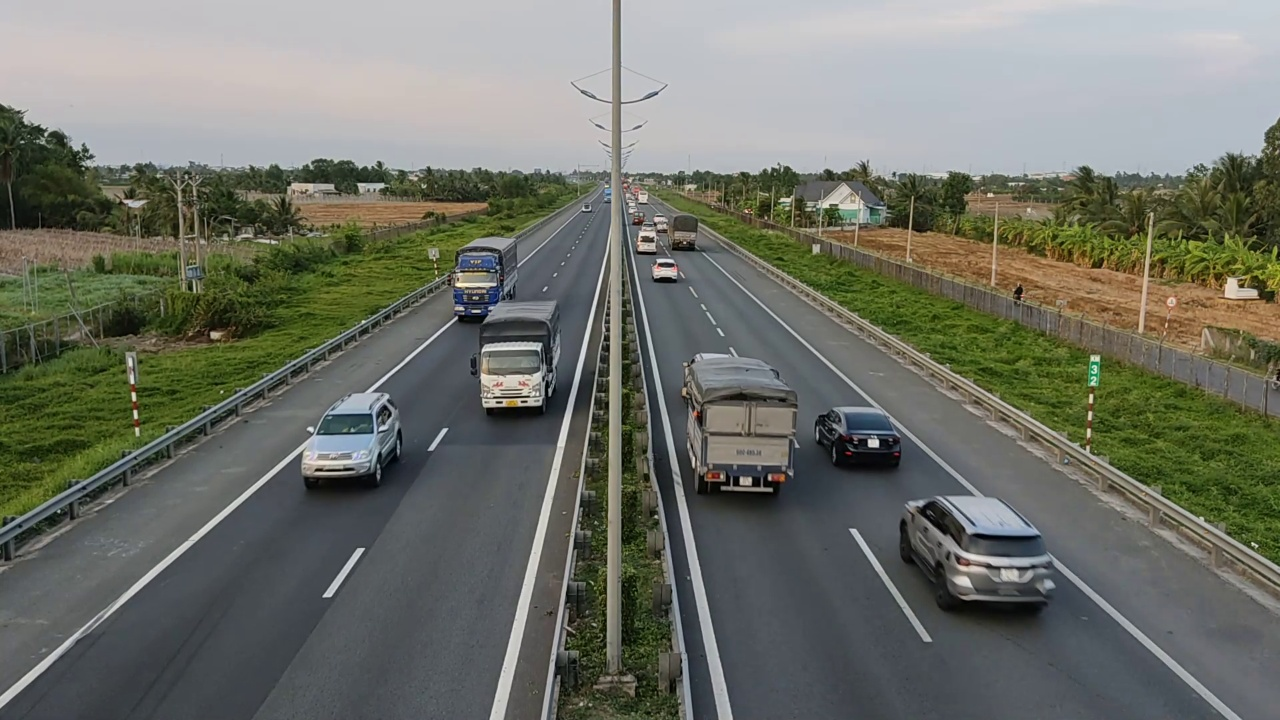car: (897, 493, 1057, 607), (296, 390, 408, 496), (813, 405, 903, 468), (651, 257, 683, 282), (635, 229, 659, 253)
truck: (682, 347, 800, 495), (469, 299, 562, 417), (452, 235, 521, 321), (667, 215, 699, 250)
